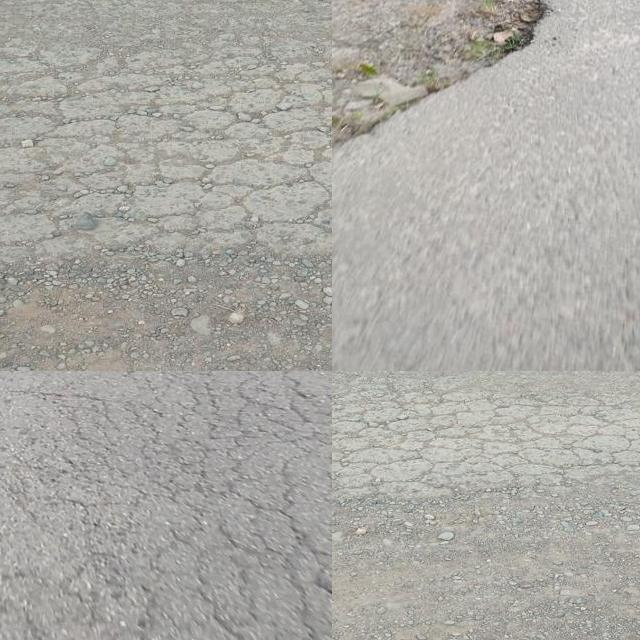Pinggir: (332, 0, 606, 201)
Retak Buaya: (0, 57, 332, 281), (75, 371, 332, 640), (332, 398, 640, 502)
